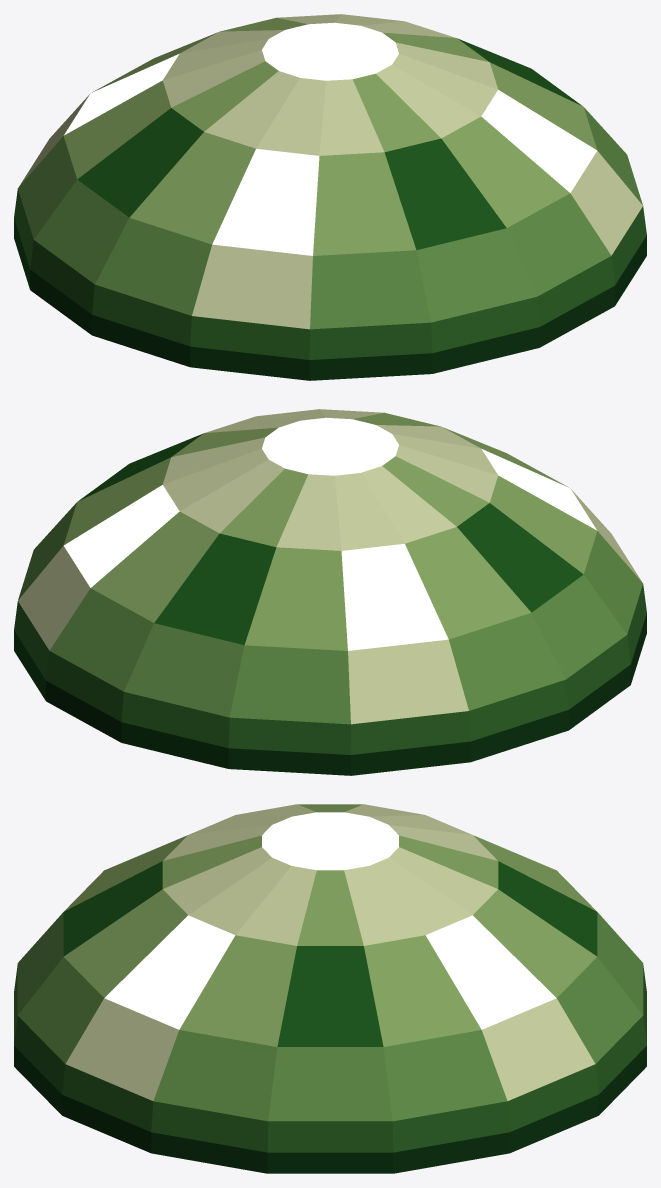
Rendered from newshv-191.glb.
3 renders of one model, top to bottom at view 1: azimuth 30°, elevation 25°; view 2: azimuth 150°, elevation 25°; view 3: azimuth 270°, elevation 25°, orthographic.
Visible parts, largest first — view 1: newshv-191; view 2: newshv-191; view 3: newshv-191.
Boxes of the visible parts, x1=… form: newshv-191: x1=14, y1=14, x2=646, y2=380; newshv-191: x1=14, y1=409, x2=646, y2=775; newshv-191: x1=14, y1=804, x2=646, y2=1173.
Size of the model in its own units: 1.36 by 0.49 by 1.36.
